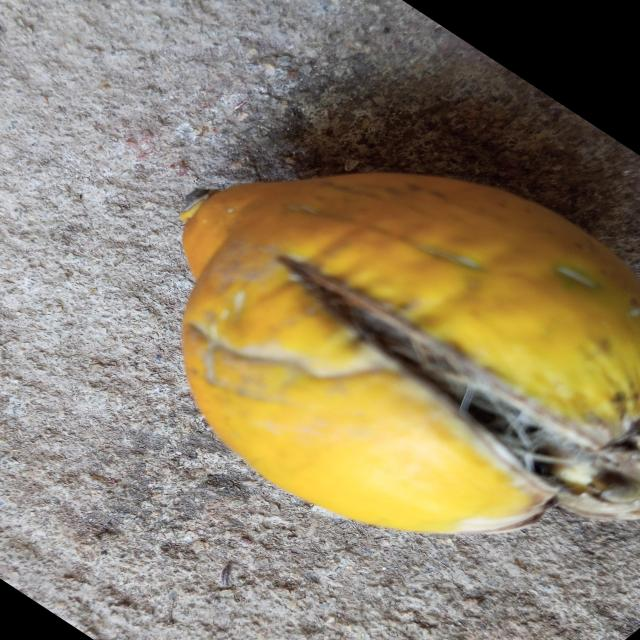damaged: (182, 172, 640, 537)
